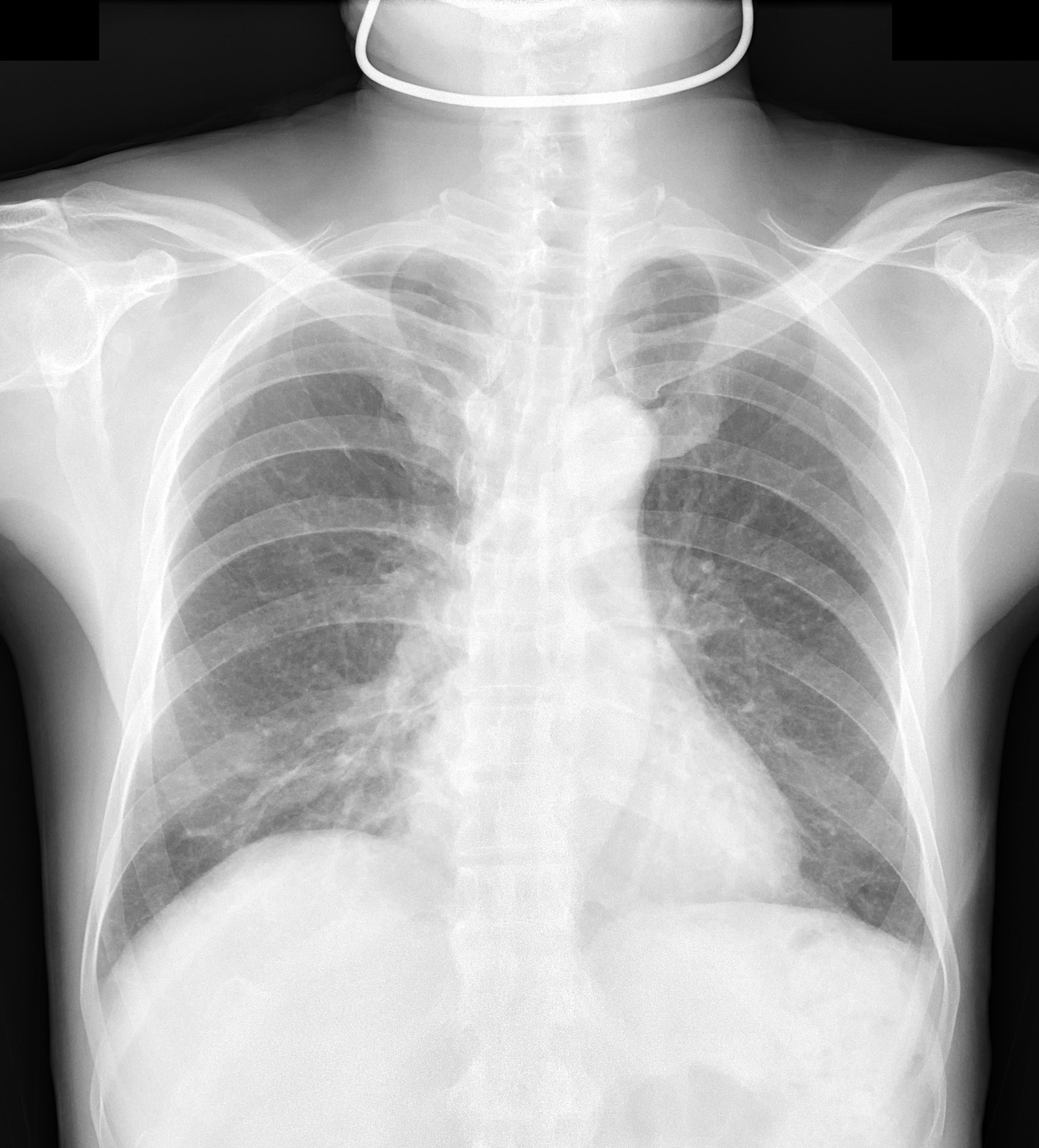Pleural thickening: (906, 918, 954, 996)
